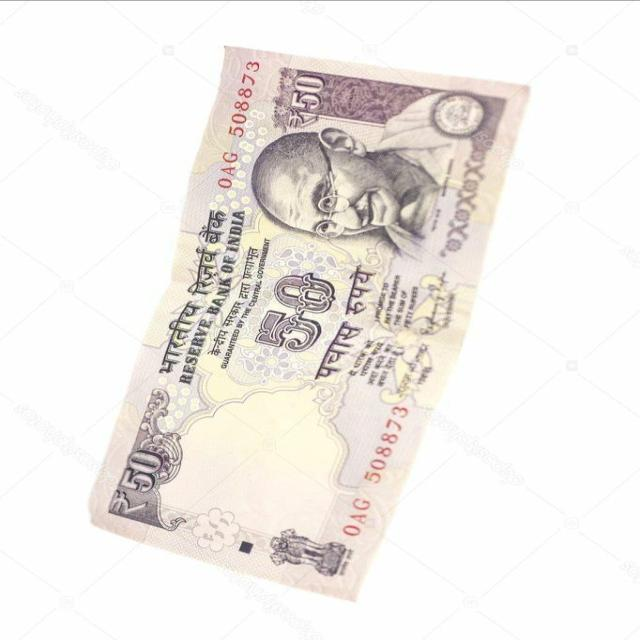50IndianRupees: (87, 50, 532, 585)
